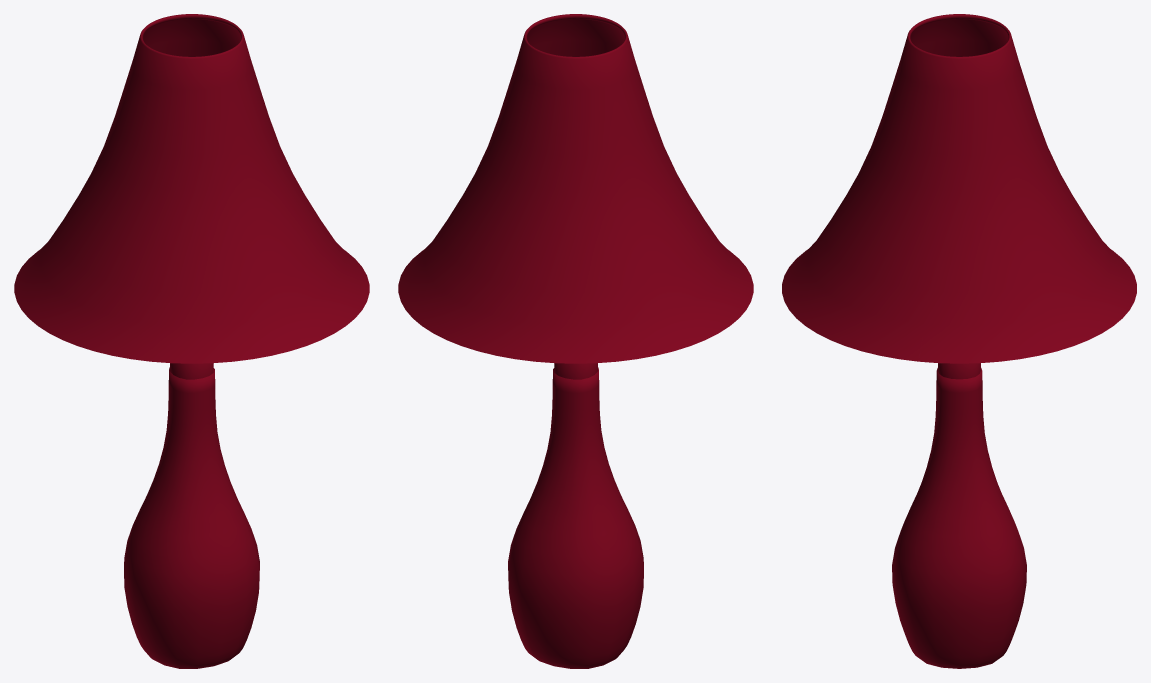
Rendered from lamp2.fbx.
3 renders of one model, left to right at view 1: azimuth 30°, elevation 25°; view 2: azimuth 150°, elevation 25°; view 3: azimuth 270°, elevation 25°, orthographic.
Visible parts, largest first — view 1: node_id7; view 2: node_id7; view 3: node_id7.
Part boxes in pixels (x1,y1,x2,y2): node_id7: [14, 14, 369, 668]; node_id7: [398, 14, 753, 668]; node_id7: [782, 14, 1136, 668].
Bounding box in the file's own units: 0.2683 × 0.512 × 0.2678.
Materials: 2 (2 with a texture image).
